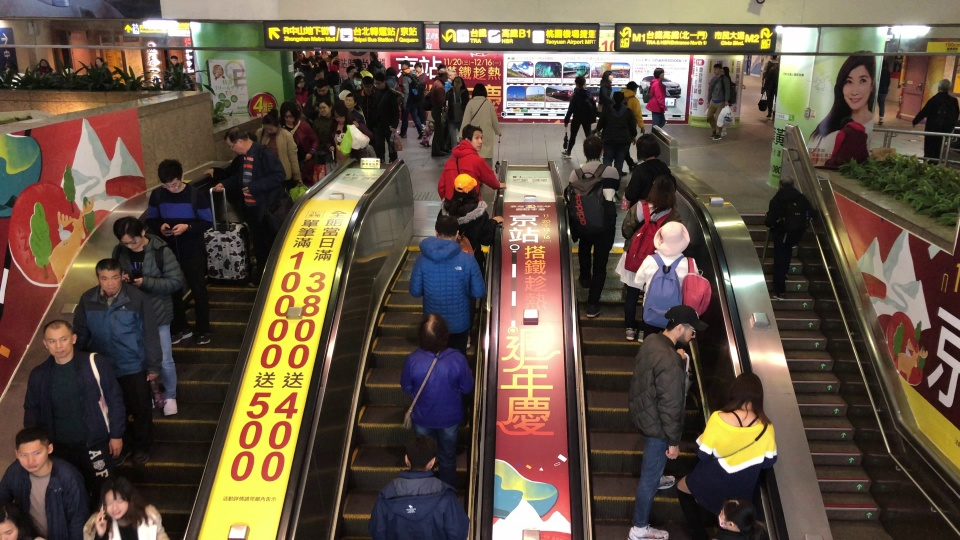person_head: (13, 428, 53, 472), (40, 319, 77, 359), (663, 304, 698, 345), (716, 498, 756, 532), (731, 372, 764, 409), (0, 505, 34, 540), (112, 216, 146, 250), (92, 257, 124, 293), (102, 479, 130, 520), (402, 437, 436, 469), (157, 157, 184, 193), (658, 220, 685, 250), (649, 173, 677, 201), (431, 215, 461, 241), (425, 315, 450, 346), (225, 126, 252, 154), (460, 123, 486, 151), (633, 133, 661, 159), (450, 173, 478, 197), (581, 135, 604, 159), (278, 100, 299, 122), (262, 113, 280, 134), (315, 98, 333, 116), (343, 92, 358, 108), (316, 77, 329, 95), (472, 83, 488, 97), (334, 106, 347, 123), (935, 79, 953, 91), (360, 76, 375, 90), (778, 175, 794, 188), (452, 76, 465, 89), (374, 76, 387, 88), (293, 75, 305, 87), (652, 67, 664, 79), (626, 80, 638, 91), (613, 91, 625, 102), (346, 65, 357, 76), (353, 73, 363, 85), (437, 71, 449, 81), (602, 70, 614, 80), (574, 76, 586, 86), (315, 67, 325, 77), (354, 58, 364, 68), (386, 67, 397, 76), (368, 51, 378, 60), (437, 63, 447, 72), (401, 60, 410, 69), (94, 57, 103, 65), (170, 55, 178, 64), (882, 60, 890, 69), (721, 66, 730, 74), (713, 64, 720, 74), (39, 58, 48, 65), (297, 52, 305, 59), (768, 55, 778, 59)
person_vbox: (613, 304, 697, 540), (674, 372, 785, 538), (72, 257, 160, 466), (22, 318, 130, 487), (399, 315, 479, 501), (110, 216, 183, 415), (615, 173, 694, 342), (147, 158, 214, 346), (212, 127, 289, 288), (407, 215, 485, 361), (370, 437, 472, 540), (563, 136, 618, 316), (1, 428, 85, 540), (633, 220, 710, 341), (763, 176, 814, 301), (437, 123, 508, 207), (433, 173, 506, 251), (84, 479, 170, 540), (910, 79, 959, 164), (457, 83, 504, 170), (252, 113, 306, 187), (624, 133, 677, 208), (559, 76, 600, 159), (278, 100, 318, 179), (596, 92, 629, 176), (370, 76, 401, 164), (621, 81, 645, 169), (398, 60, 423, 141), (429, 72, 452, 158), (326, 107, 358, 163), (314, 99, 336, 168), (705, 64, 724, 141), (649, 67, 669, 131), (761, 55, 780, 122), (410, 60, 428, 129), (448, 77, 464, 151), (876, 59, 893, 125), (343, 94, 366, 137), (722, 67, 735, 136), (385, 66, 400, 124), (312, 78, 336, 106), (599, 70, 613, 116), (358, 75, 376, 108), (90, 57, 113, 80), (339, 65, 359, 90), (292, 75, 308, 106), (366, 51, 387, 74), (166, 55, 185, 75), (35, 58, 55, 75), (350, 72, 364, 91)
